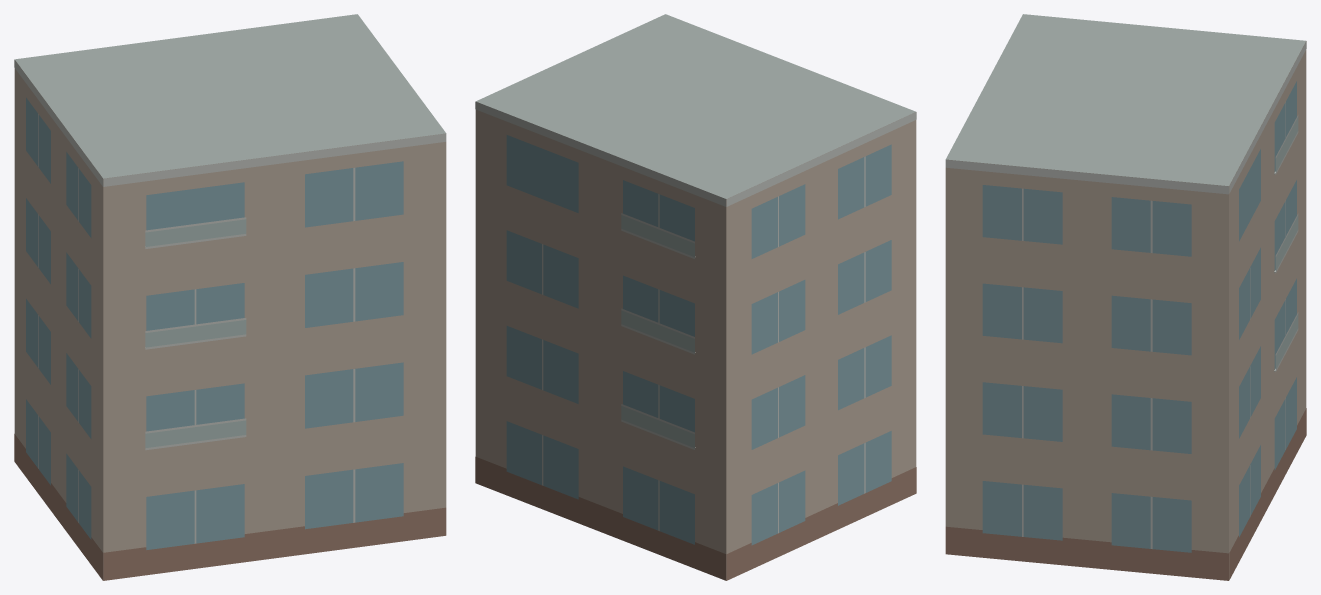
File: survey-upis-32692881.glb
3 renders of one model, left to right at view 1: azimuth 30°, elevation 25°; view 2: azimuth 150°, elevation 25°; view 3: azimuth 270°, elevation 25°, orthographic. The views are drawn at different scales.
Parts seen in each view (by area): view 1: survey-upis-32692881.tmp; view 2: survey-upis-32692881.tmp; view 3: survey-upis-32692881.tmp.
Part boxes in pixels (box(x1,y1,x2,y2)): survey-upis-32692881.tmp: box(14, 14, 446, 580); survey-upis-32692881.tmp: box(475, 14, 916, 580); survey-upis-32692881.tmp: box(945, 14, 1306, 580).
Size of the model in its own units: 10.95 by 11.7 by 9.7.
